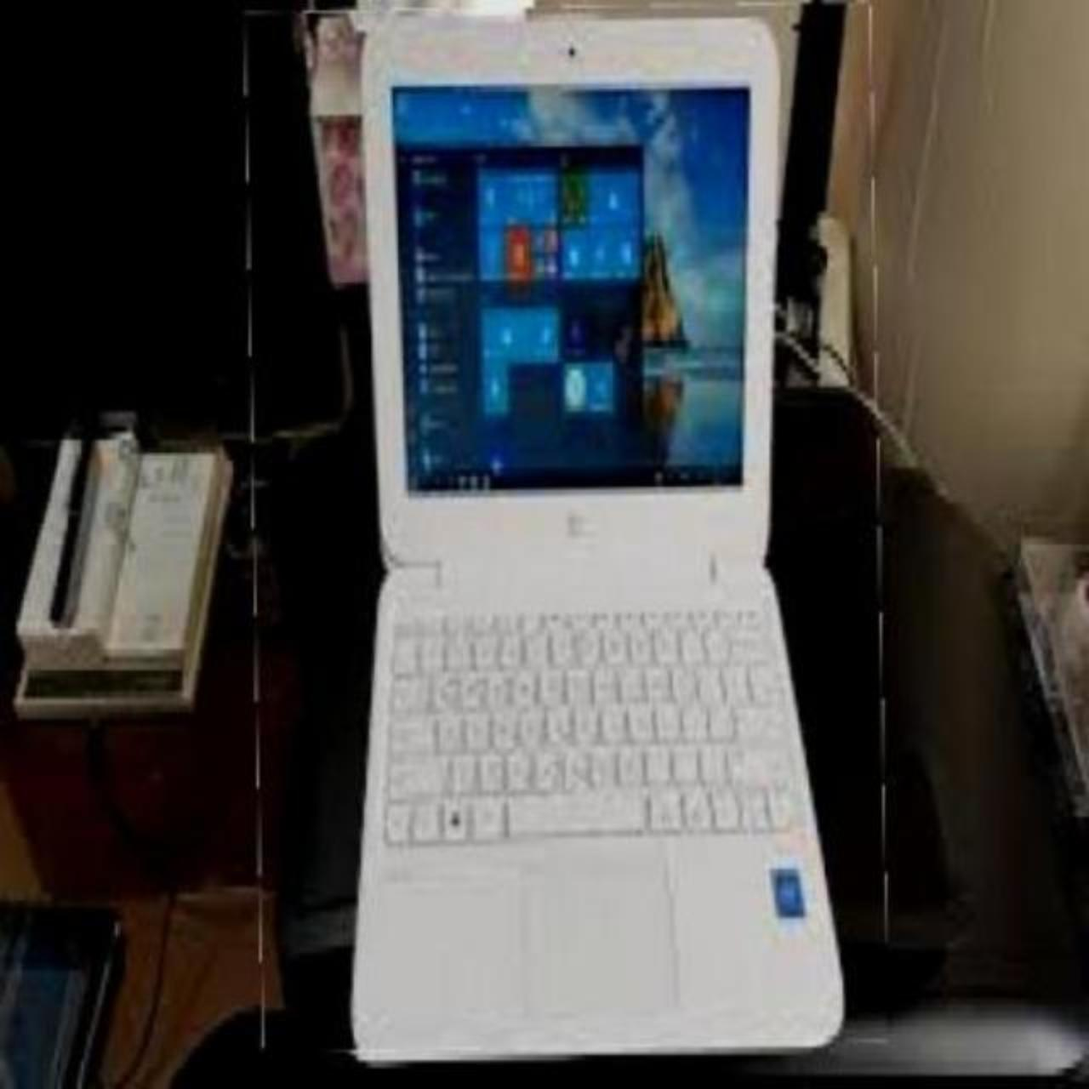laptop: (250, 6, 883, 1049)
